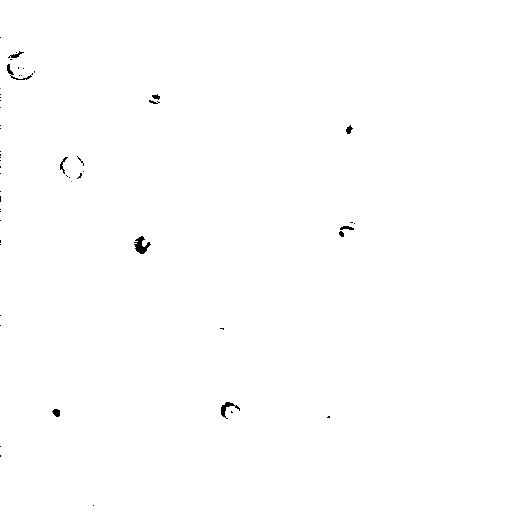micro-algae: (123, 220, 164, 265), (36, 393, 75, 434), (481, 149, 511, 198), (327, 112, 369, 143), (3, 49, 38, 80), (59, 153, 87, 183), (332, 220, 363, 247), (220, 401, 241, 421)
